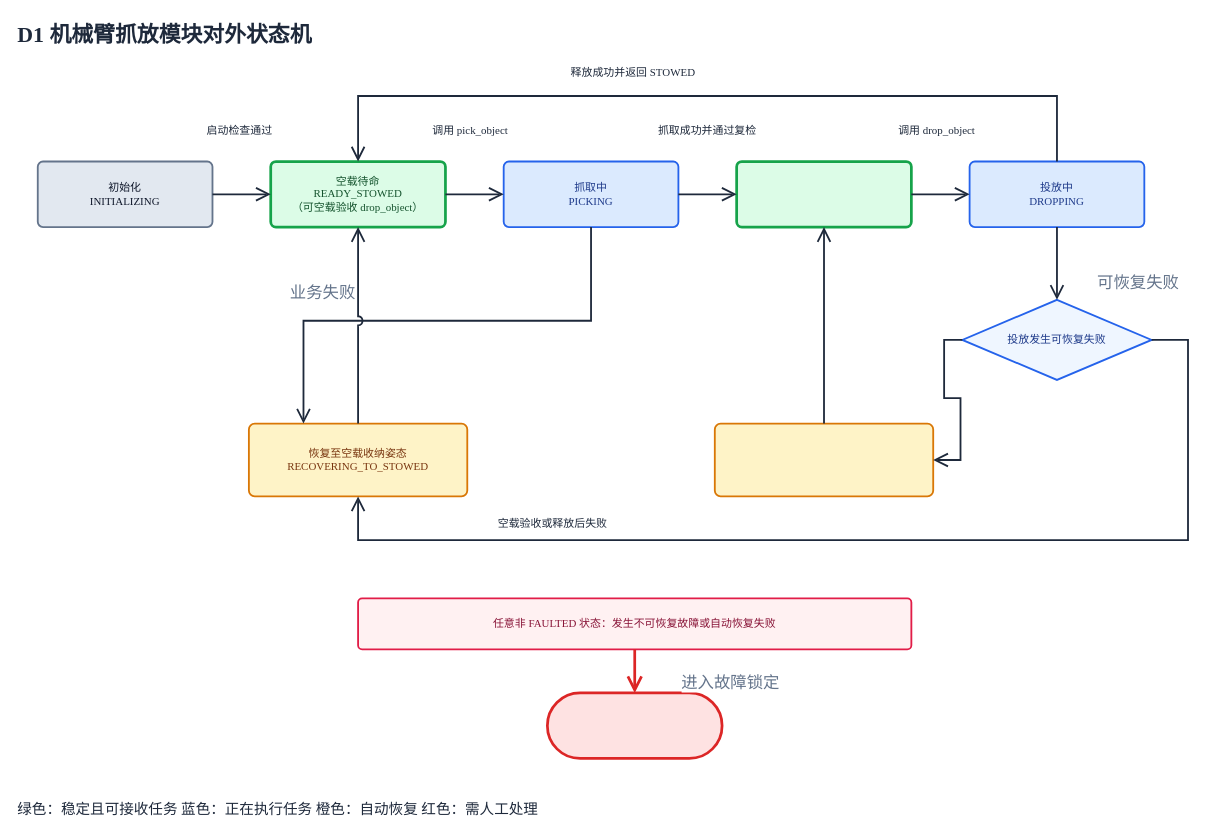
This 1217x839 diagram has some shape labels left out. The box of each missing label's shape, as (x1, y1, x2, y2) in pixels:
持物待命 READY_CARRY: (735, 160, 912, 228)
故障锁定 FAULTED: (546, 691, 723, 759)
释放前失败且仍持物 RECOVERING_TO_CARRY: (713, 422, 934, 497)
